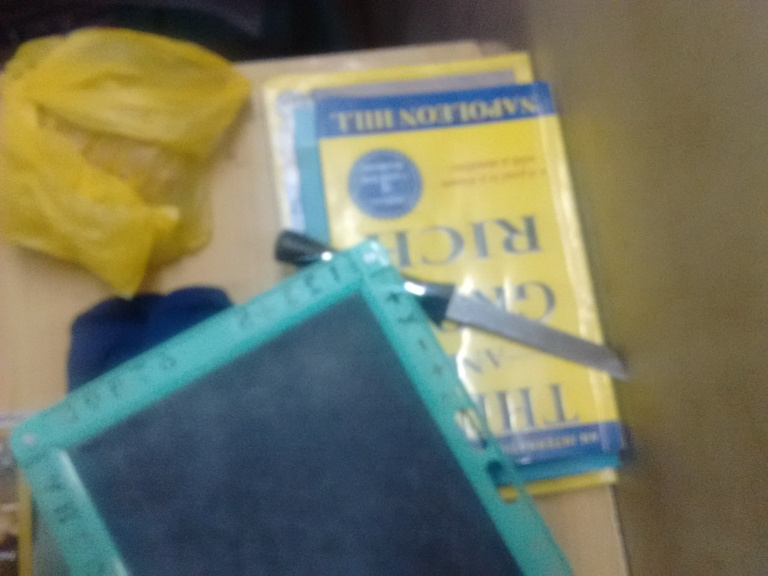knife: (270, 227, 627, 379)
